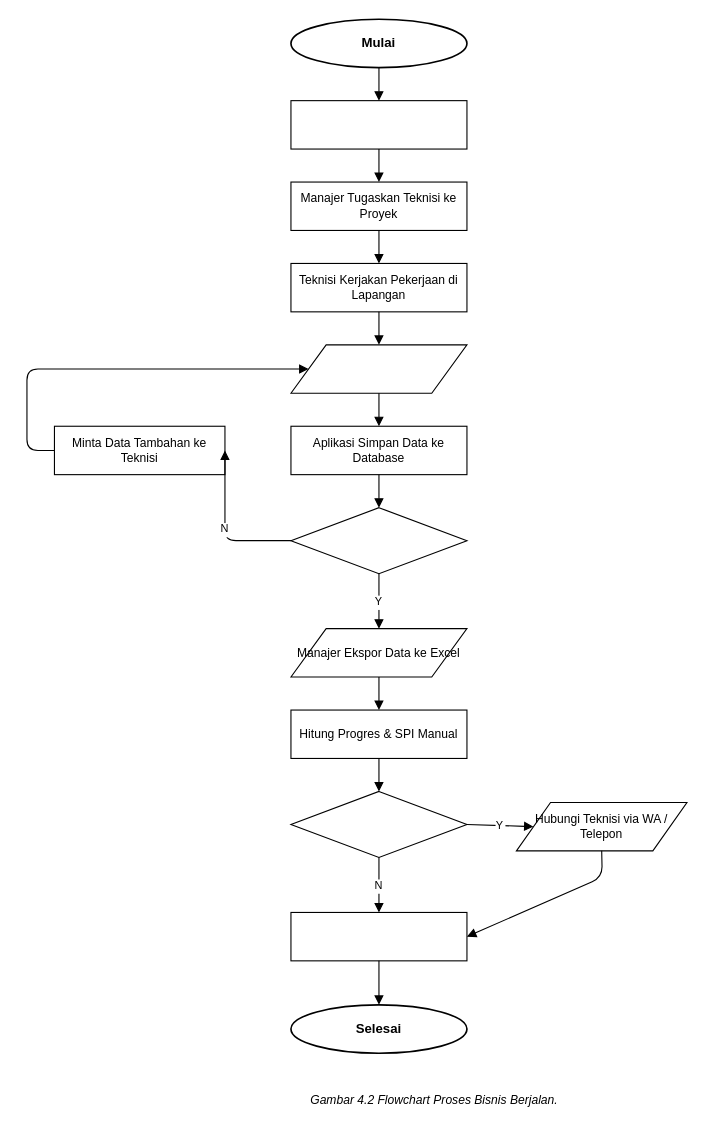
Some shapes in this 706 by 1136 pixel diagram are drawn without their labels. Here are the shapes that lost their labels. From the top down, the box of each, then its label:
(290, 100, 467, 149): Manajer Buat Data Proyek di Aplikasi
(290, 344, 467, 393): Teknisi Input Laporan Harian di Aplikasi
(290, 507, 467, 574): Data Lengkap?
(290, 790, 467, 857): Proyek Terlambat?
(290, 911, 467, 961): Update Status di Aplikasi
